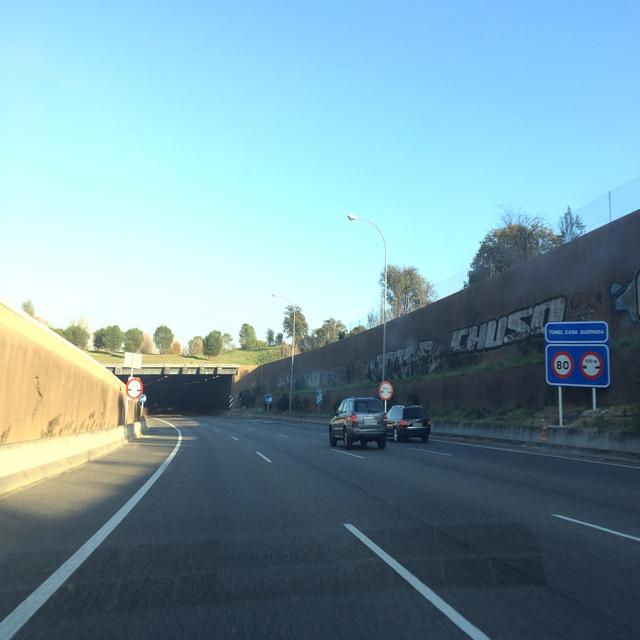Barrier: (0, 419, 148, 495)
Car: (329, 396, 430, 449), (156, 405, 173, 413)
Vegetation: (21, 300, 382, 413), (293, 305, 544, 383), (470, 205, 549, 266), (610, 328, 639, 353)
